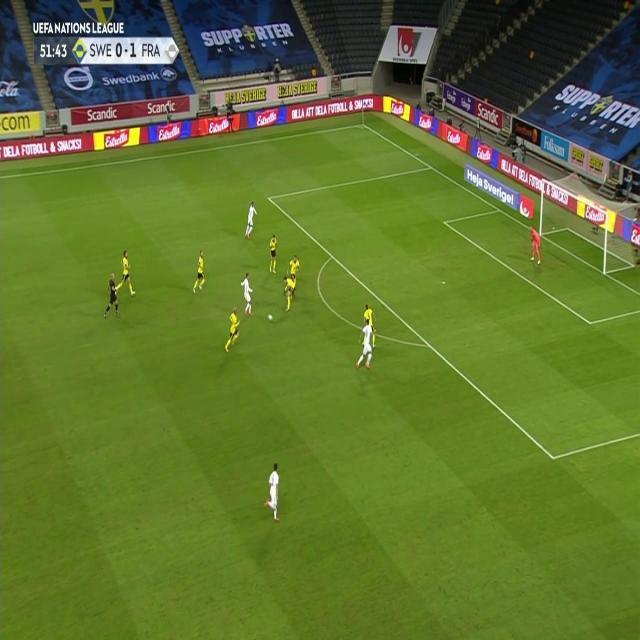ball: (267, 313, 273, 321)
goalkeeper: (529, 223, 542, 266)
player: (262, 462, 282, 524), (355, 319, 374, 374), (118, 247, 137, 297), (223, 305, 241, 354), (192, 249, 207, 295), (240, 271, 255, 317), (244, 200, 259, 240), (282, 275, 295, 313), (268, 231, 279, 274), (362, 303, 377, 325), (287, 255, 300, 278)
referee: (103, 271, 120, 321)
